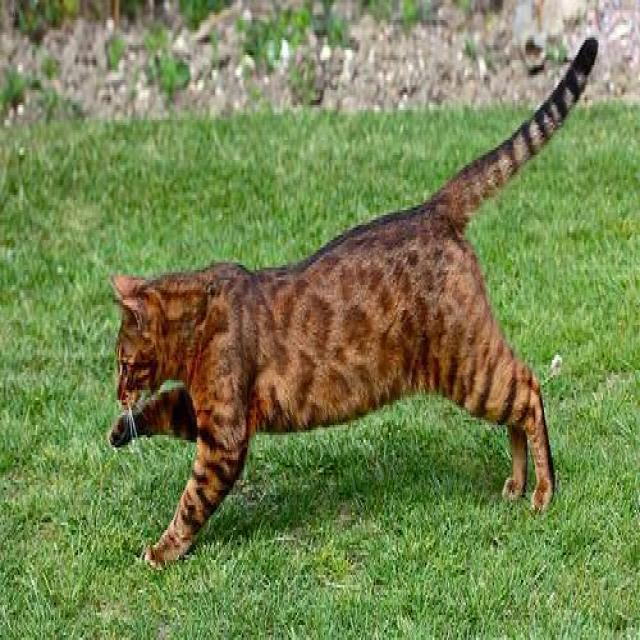cat: (109, 30, 599, 572)
